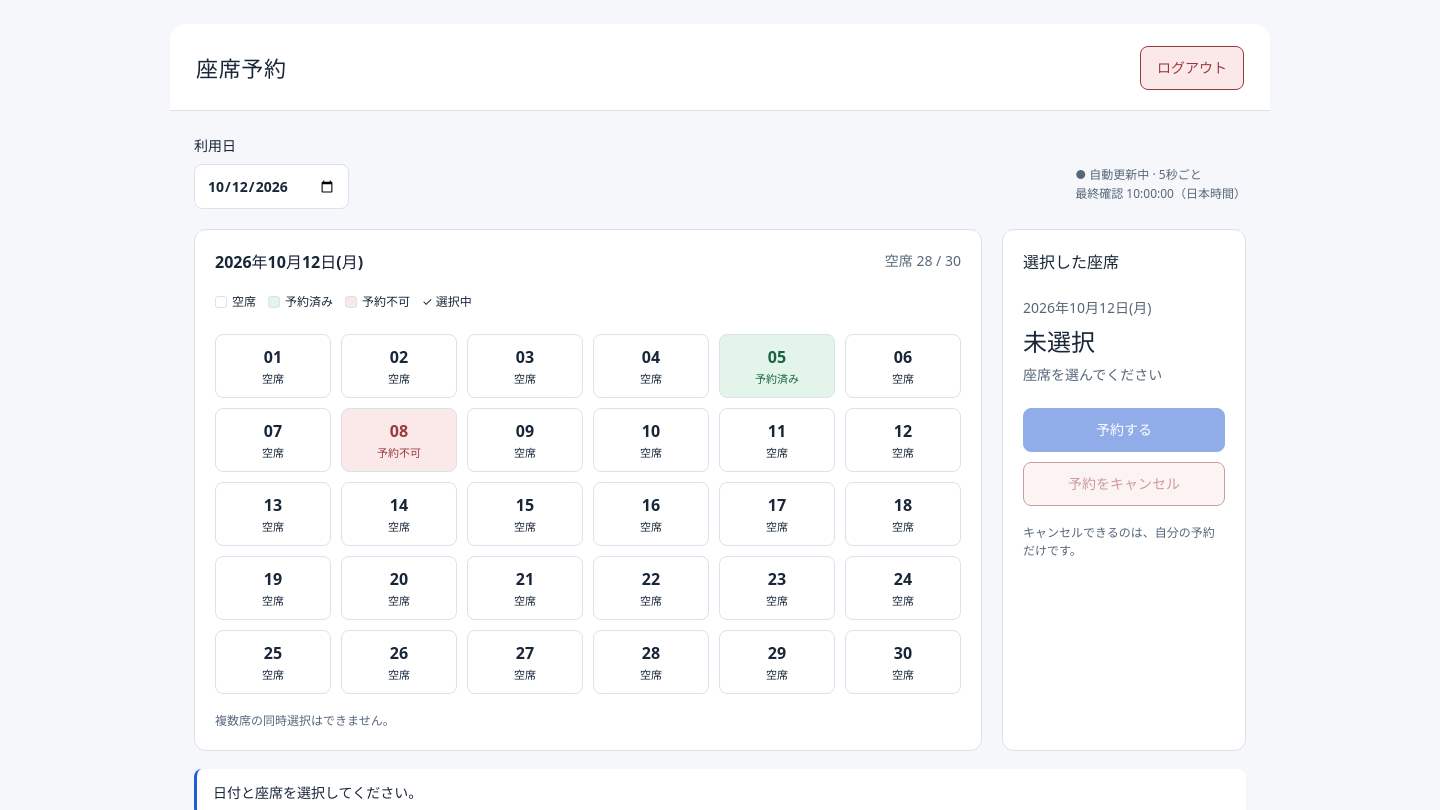
Test: マトリクス：画面と実APIクライアント（fetch境界のみ代替） › [DATE-05] 2026-10-13 は空席予約と自席キャンセルのみ可能
Type "2026-10-13" into the date field labelled "利用日". click: (272,187)
box: [194,164,349,209]
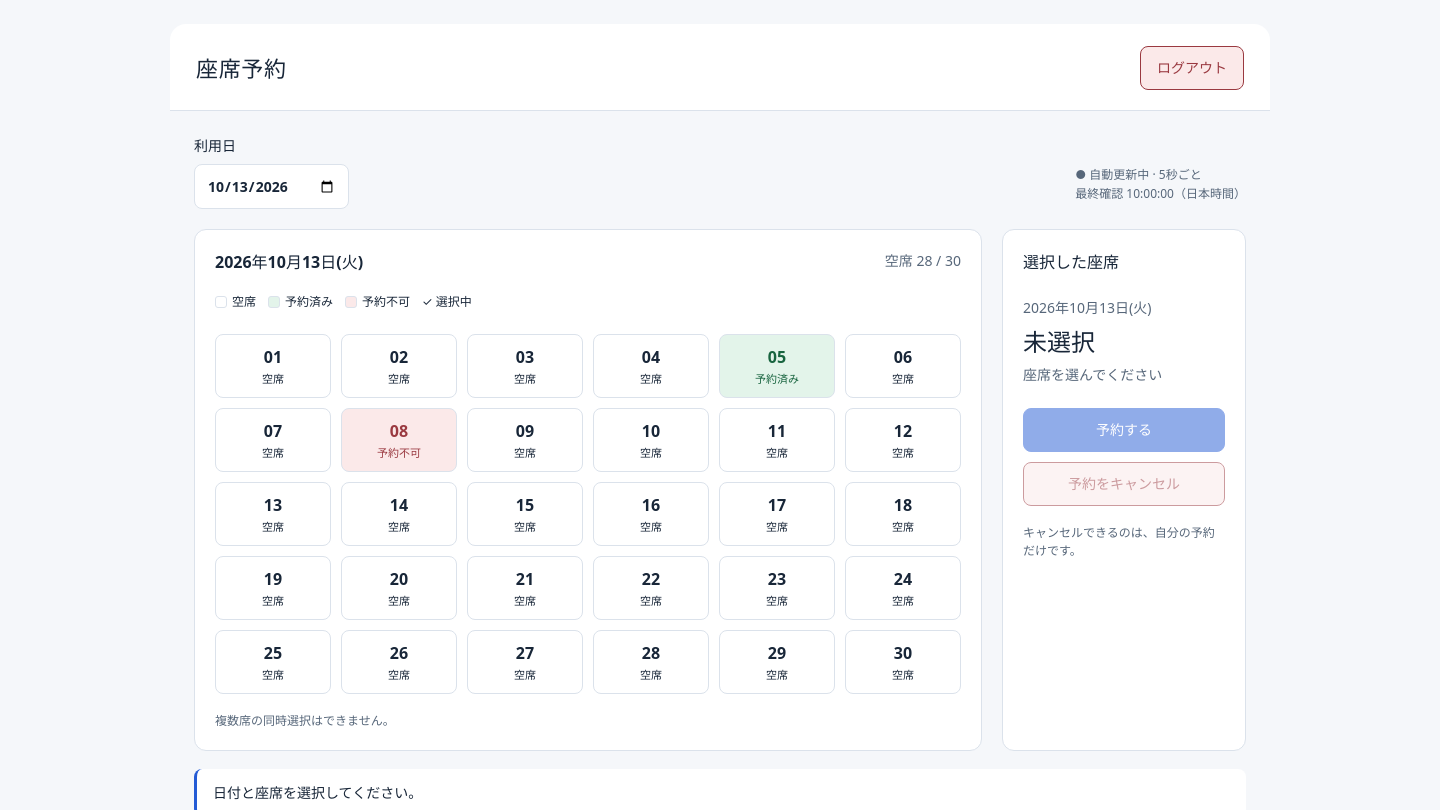
Click the button with aria-label "座席1、". click: (273,366)
box: [215,334,331,398]
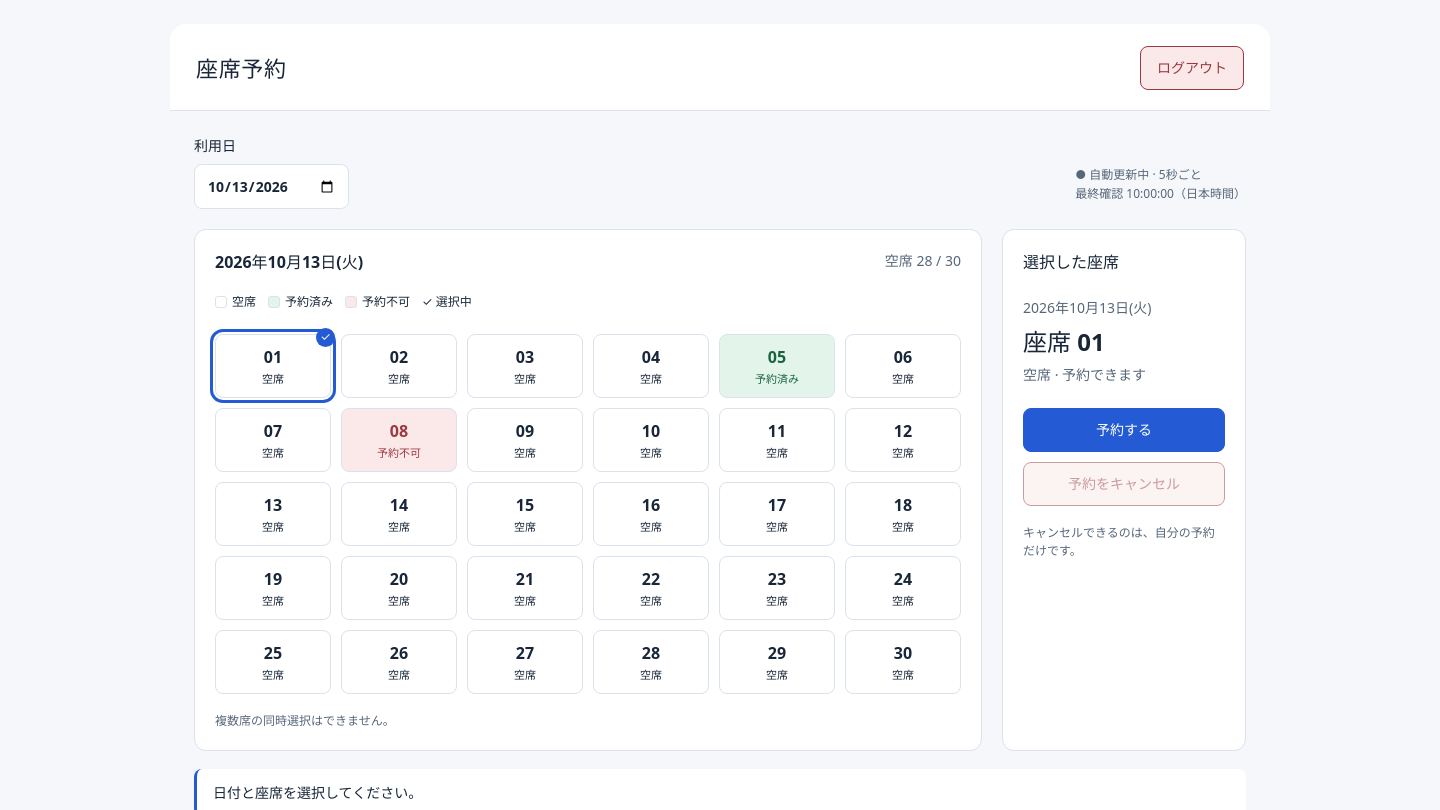
Check: the button "予約をキャンセル" is disabled, box [1023,462,1225,506]
Check: the button "予約する" is enabled, box [1023,408,1225,452]
Click the button "05 予約済み". click: (777,366)
box: [719,334,835,398]
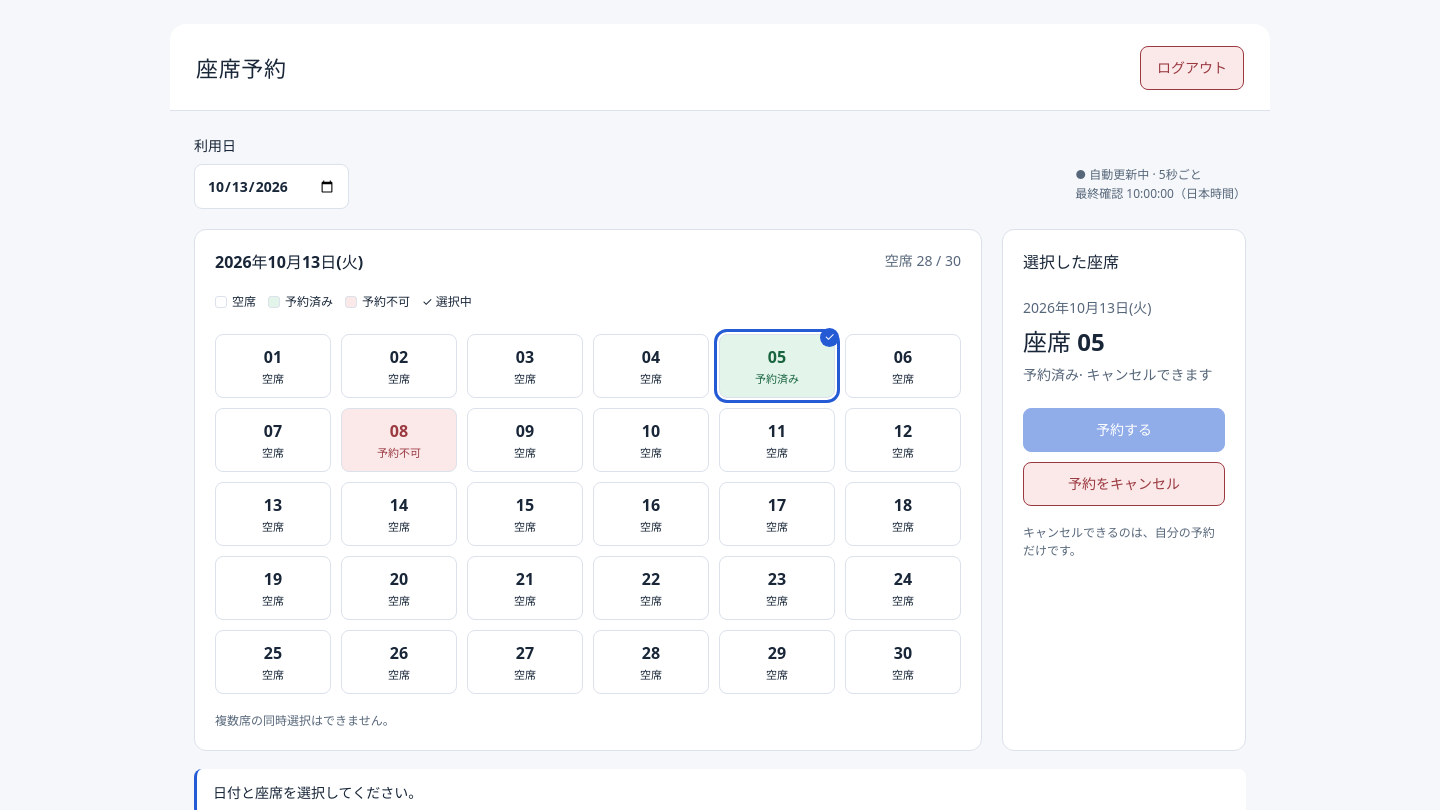
Check: the button "予約をキャンセル" is enabled, box [1023,462,1225,506]
Check: the button "予約する" is disabled, box [1023,408,1225,452]
